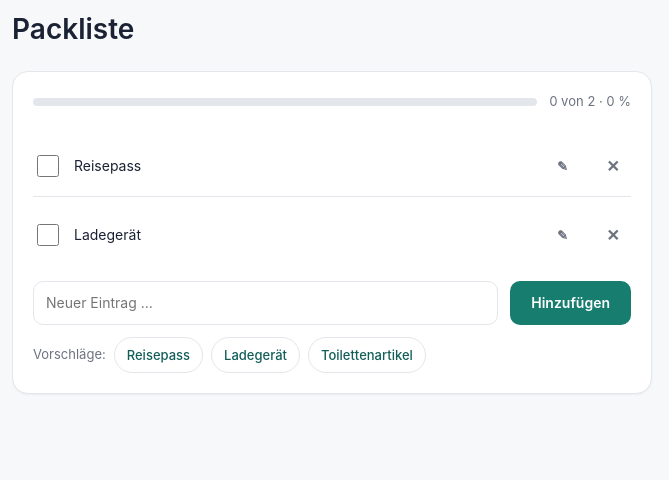
Test: PackingListPage check-off flow › adds an item through the input and button
The image size is (669, 480).
Type "Sonnencreme" into the field labelled "Neuer Eintrag" at (266, 302), box x1=33 y1=280 x2=498 y2=324
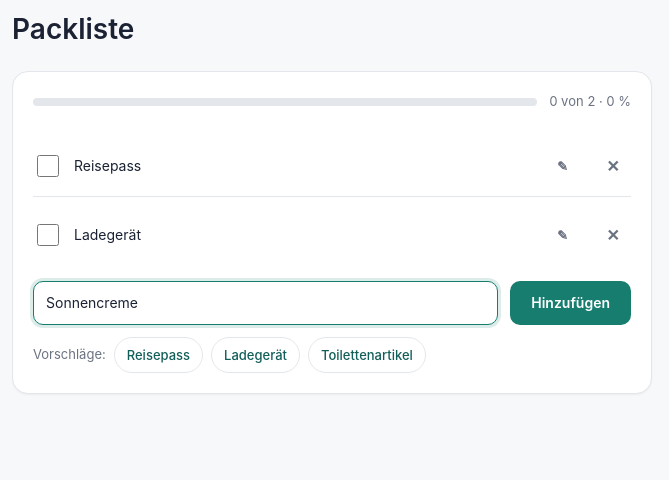
Click the button "Hinzufügen" at (571, 302), box x1=510 y1=280 x2=631 y2=324
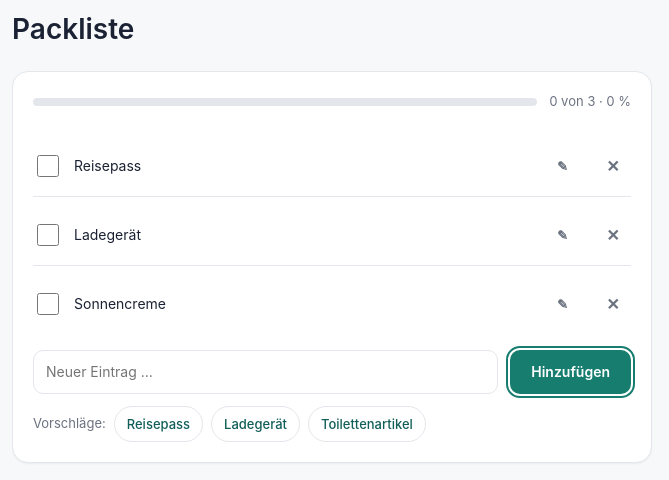
Check: the text "Sonnencreme" is shown, box x1=74 y1=295 x2=166 y2=312
